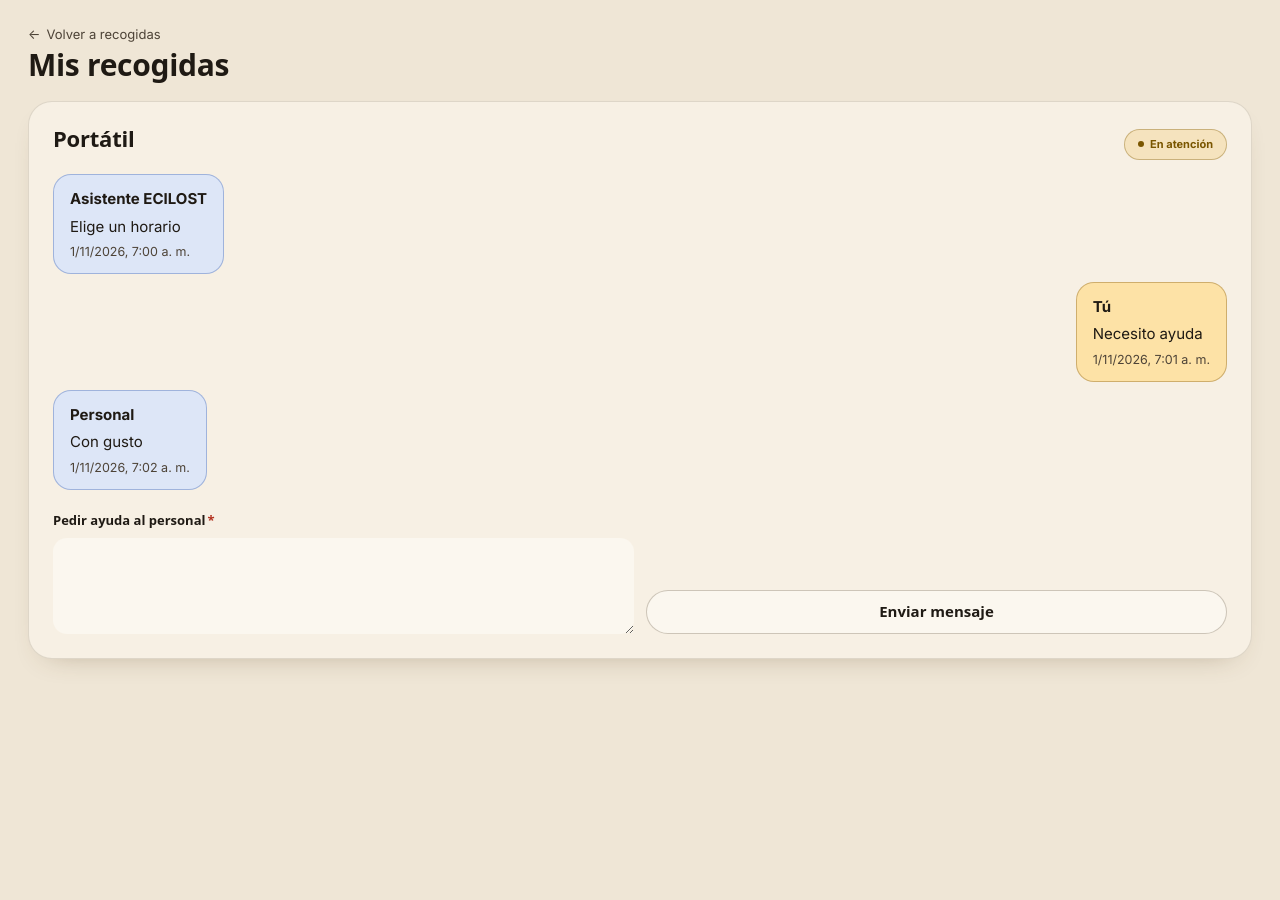
Test: pickup screens › preserves a failed help message and sends its trimmed text on retry
Step 1. Type "  ¿Dónde recojo?  " into the text box labelled "Pedir ayuda al personal" → (344,586), box left=53, top=538, right=634, bottom=634
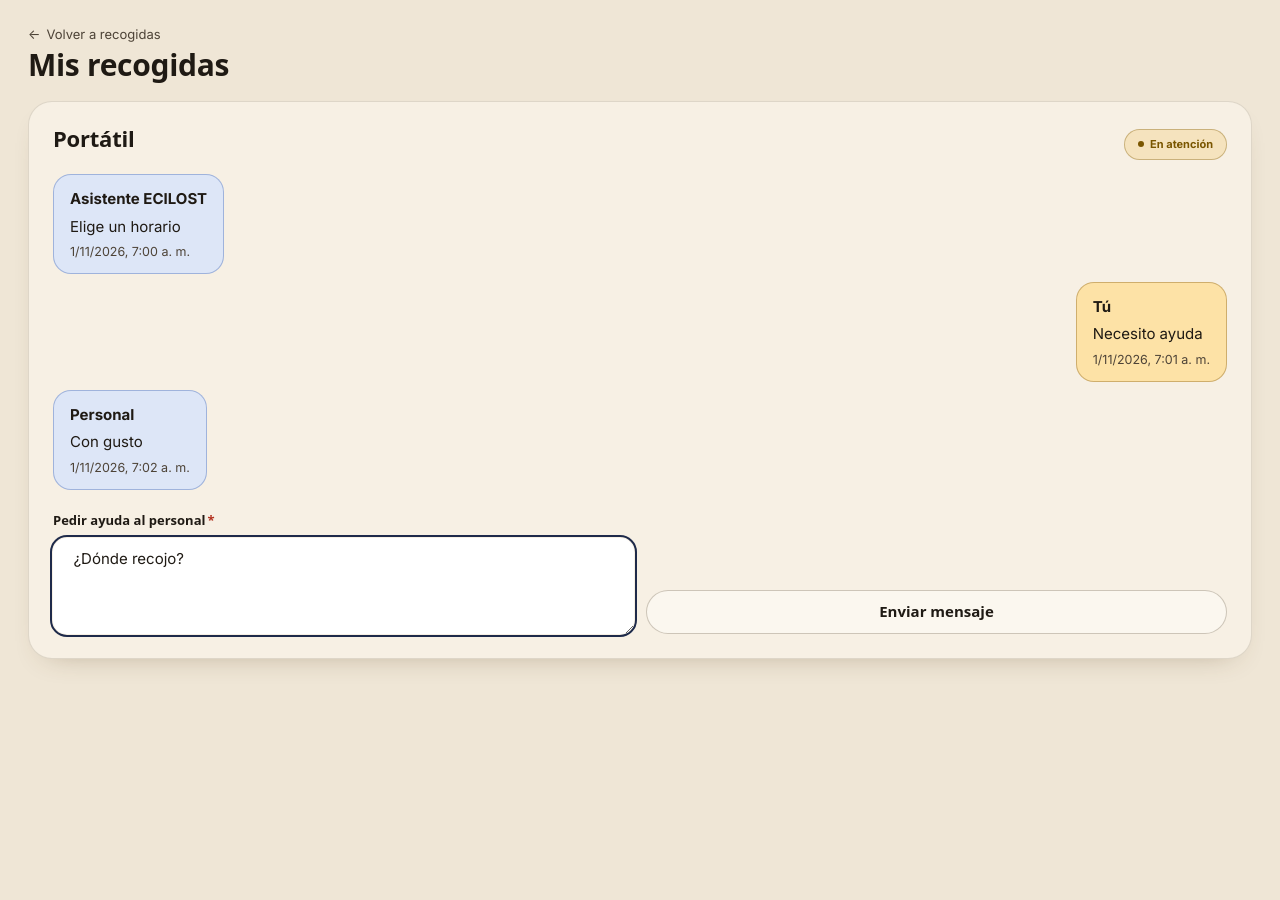
Step 2. Click the button "Enviar mensaje" → (936,612), box left=646, top=590, right=1227, bottom=634
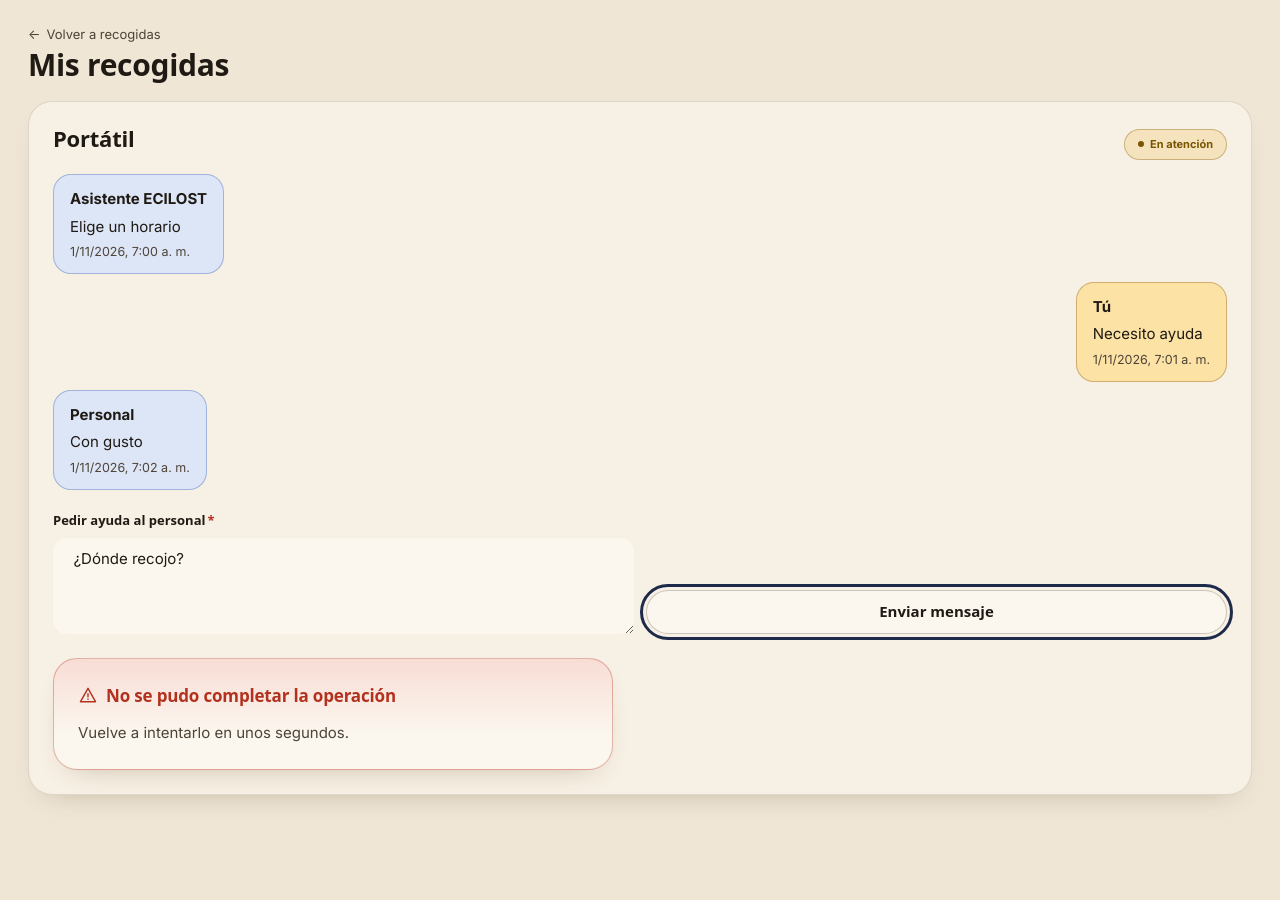
Now the message "No se pudo completar la operación Vuelve a intentarlo en unos segundos." is shown, box left=53, top=658, right=613, bottom=770
Step 3. Click the button "Enviar mensaje" → (936,612), box left=646, top=590, right=1227, bottom=634
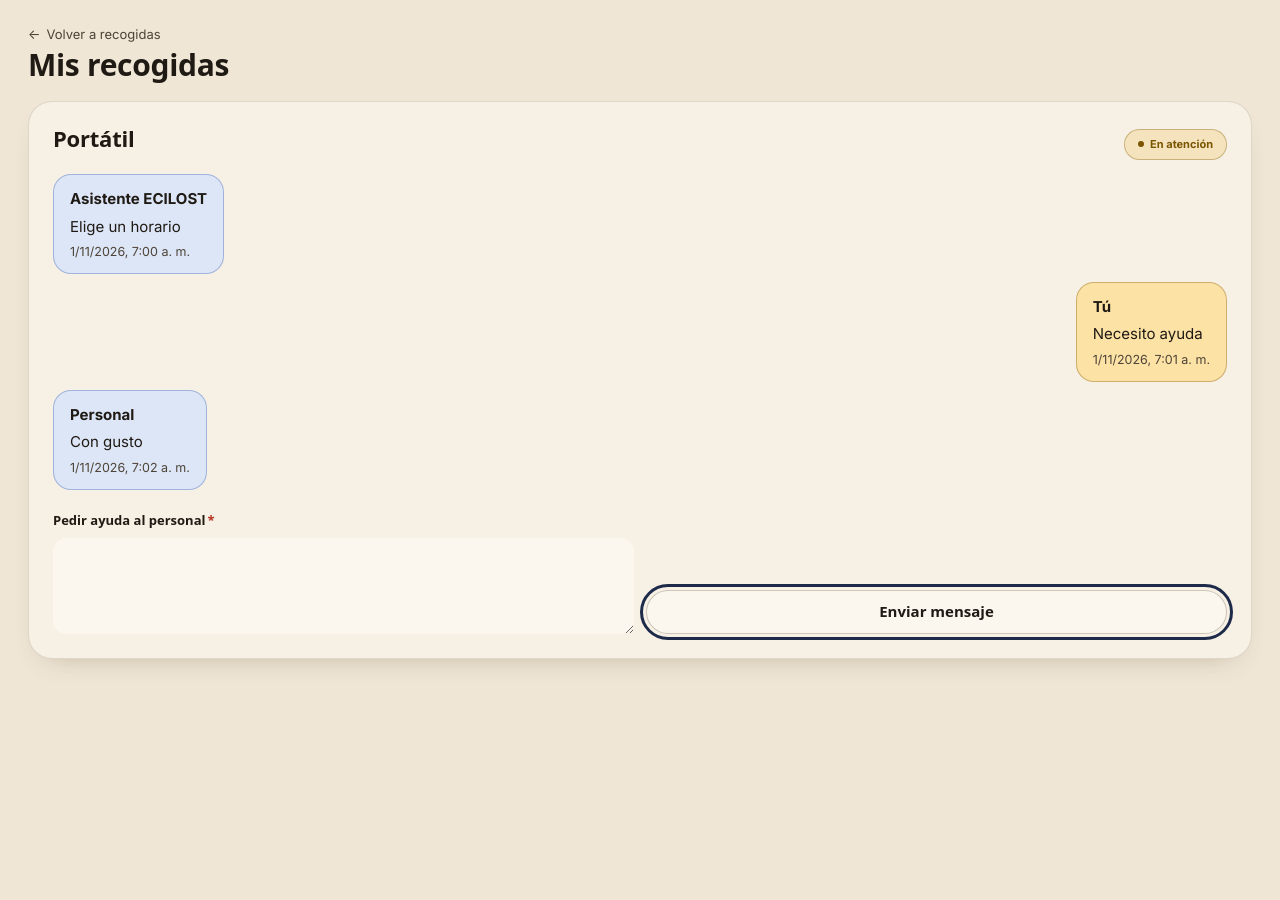
Now the text box labelled "Pedir ayuda al personal" is empty, box left=53, top=538, right=634, bottom=634
